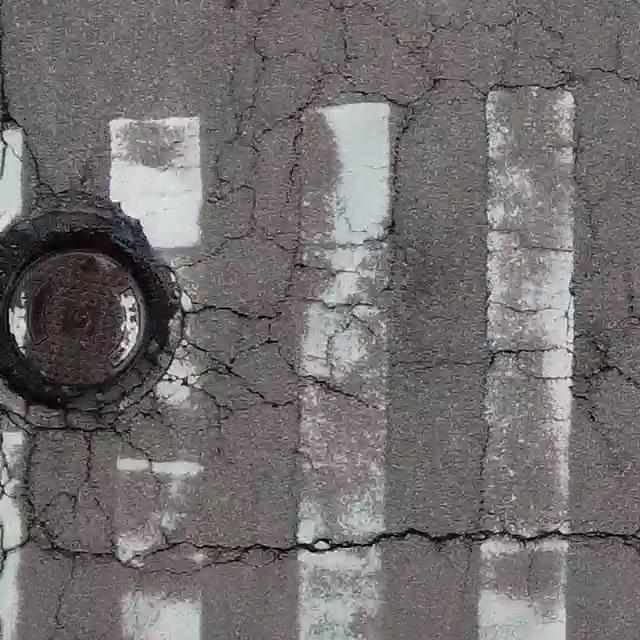PIEL DE COCODRILO: (0, 0, 639, 639), (0, 35, 167, 297)
